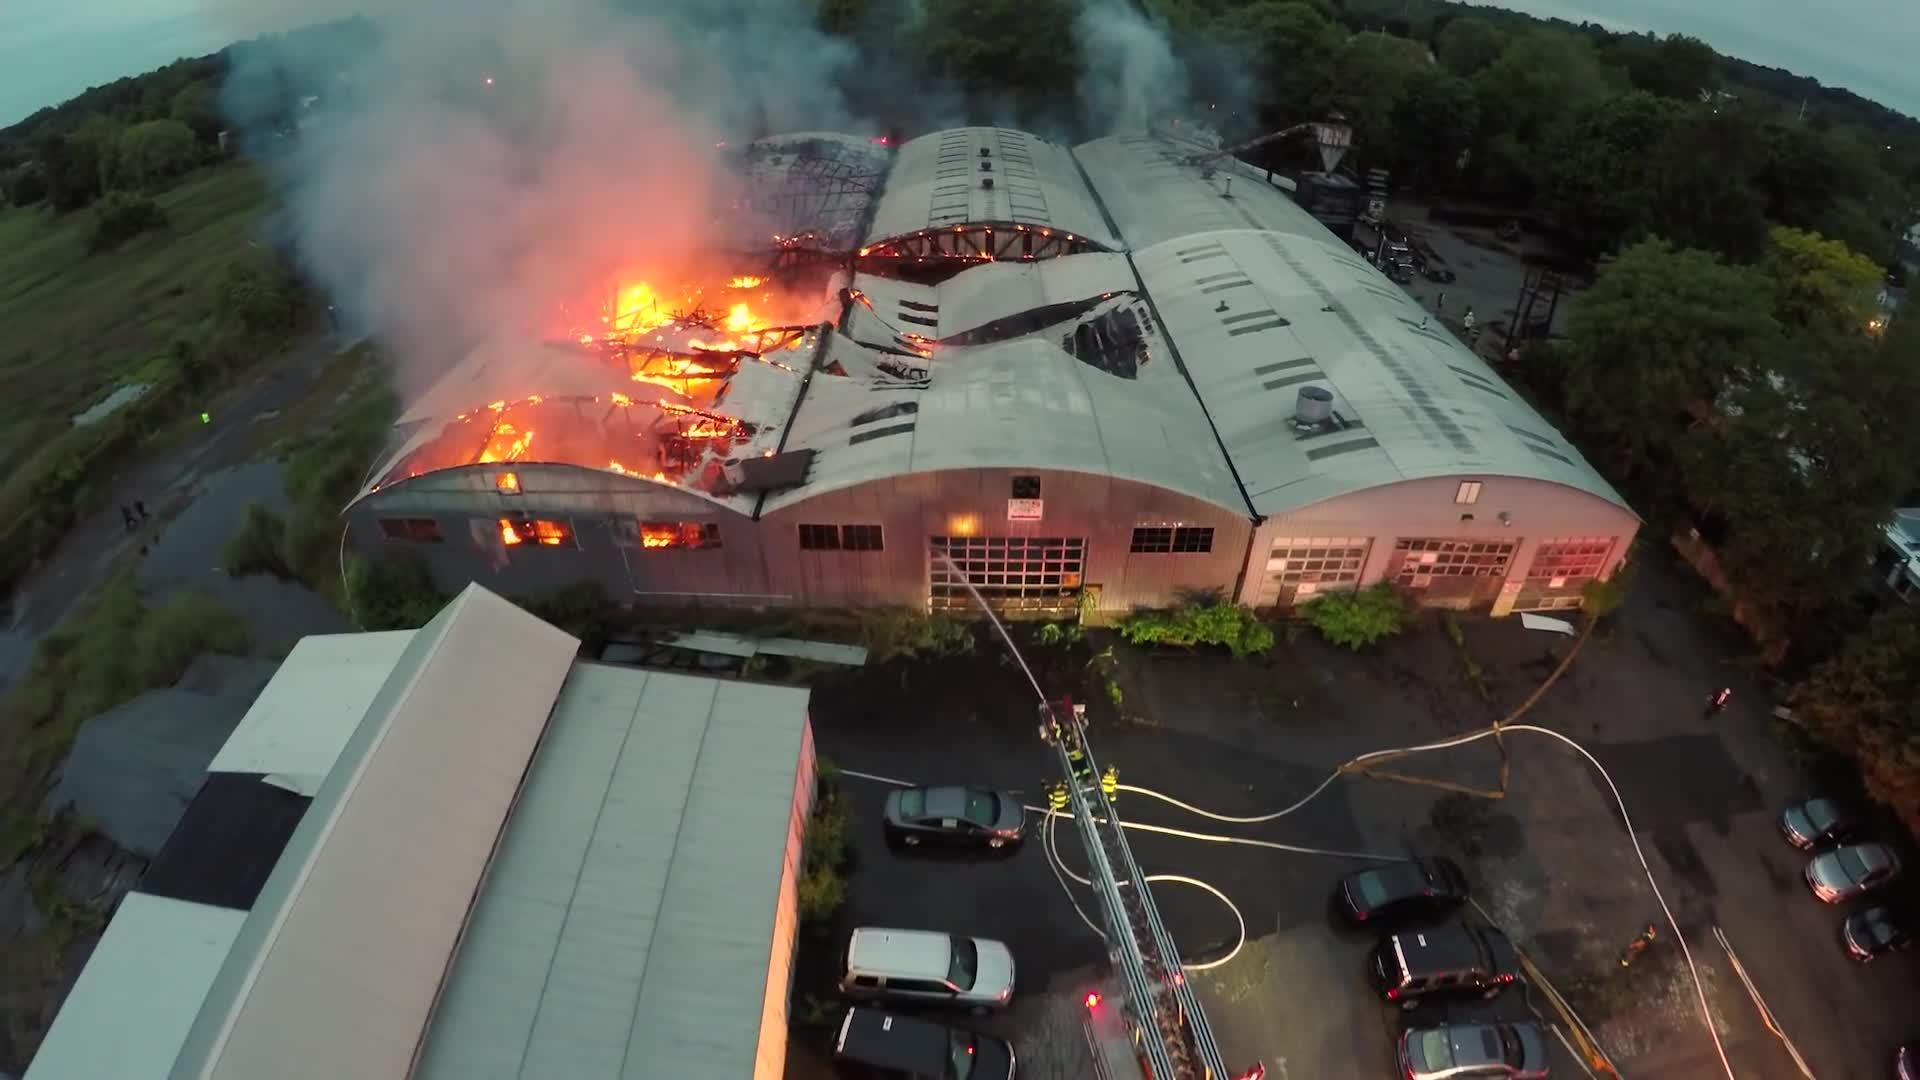fire: (616, 288, 780, 384)
smoke: (328, 32, 672, 260)
